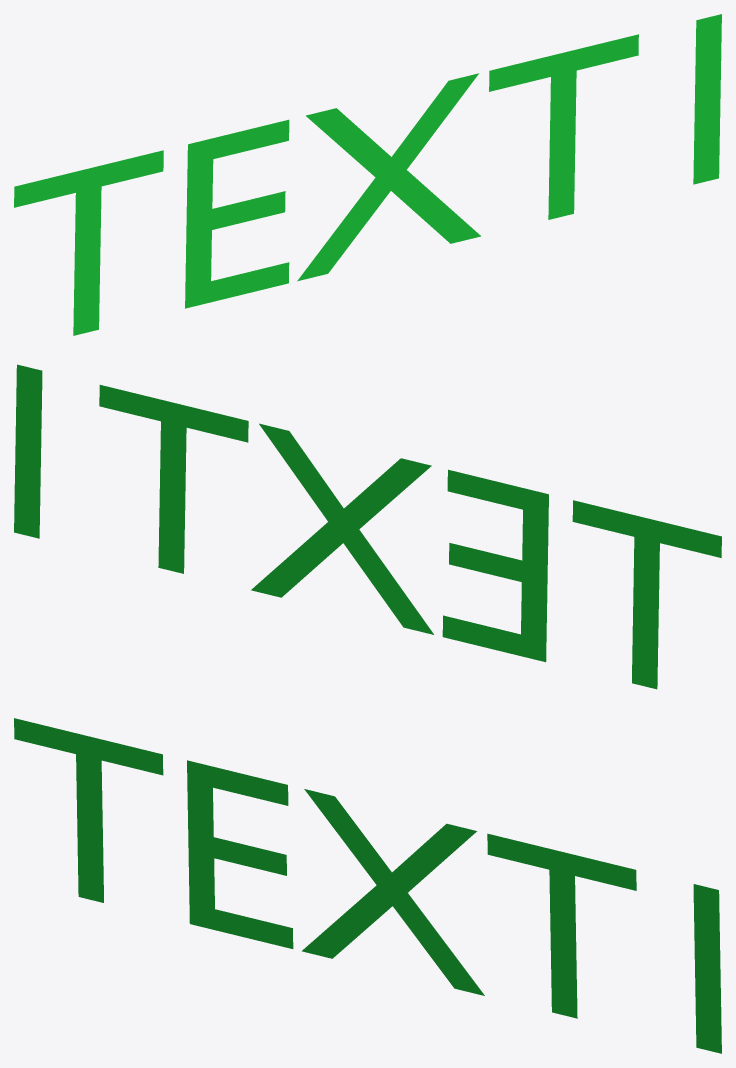
Rendered from 2_txt.glb.
The picture shows the model from 3 angles, top to bottom: view 1: azimuth 30°, elevation 25°; view 2: azimuth 150°, elevation 25°; view 3: azimuth 330°, elevation 25°; orthographic projection.
Visible parts, largest first — view 1: Text.002; view 2: Text.002; view 3: Text.002.
Boxes of the visible parts, <box> form: Text.002: <box>14,14,721,335</box>; Text.002: <box>14,364,721,689</box>; Text.002: <box>14,718,721,1053</box>.
Size of the model in its own units: 6.78 by 1.52 by 0.0483.
